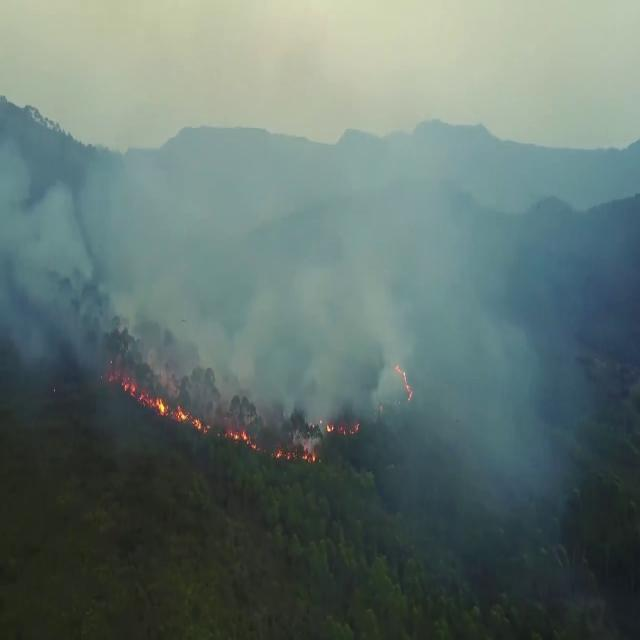Fire: (121, 375, 262, 456), (272, 416, 362, 465), (393, 366, 414, 404)
Smoke: (0, 88, 596, 528)
